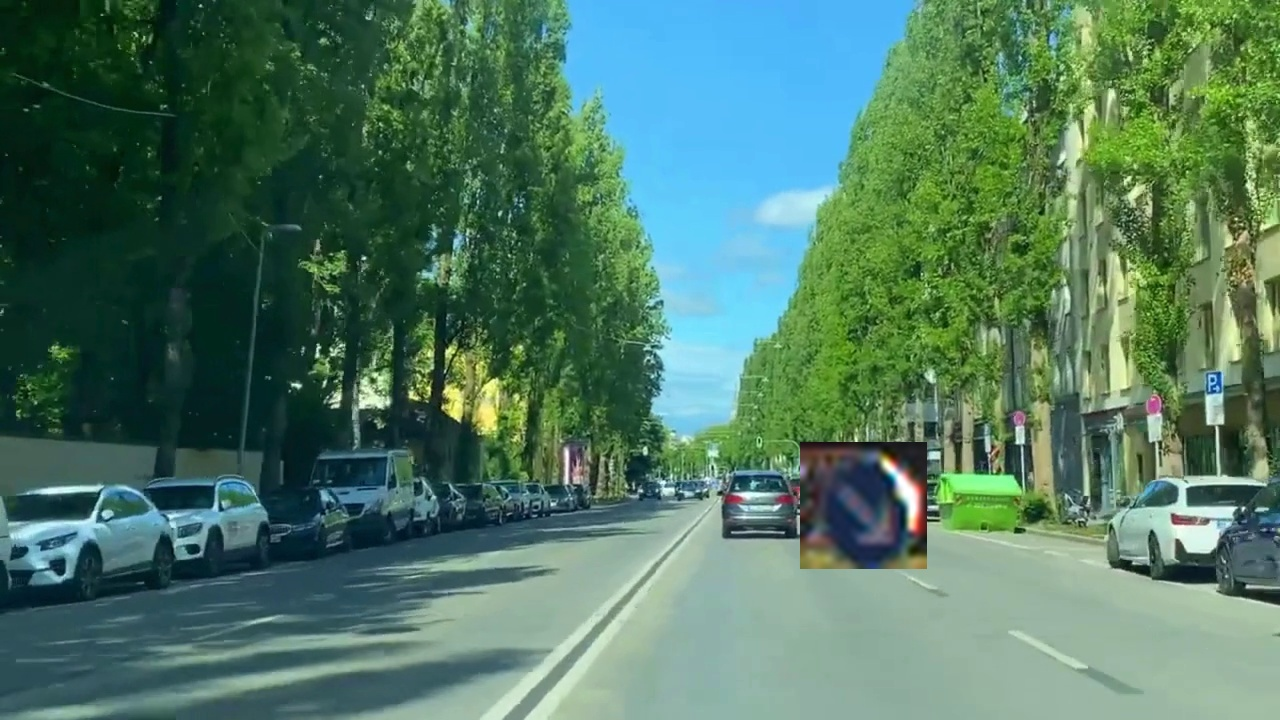Keep right: (800, 442, 927, 569)
